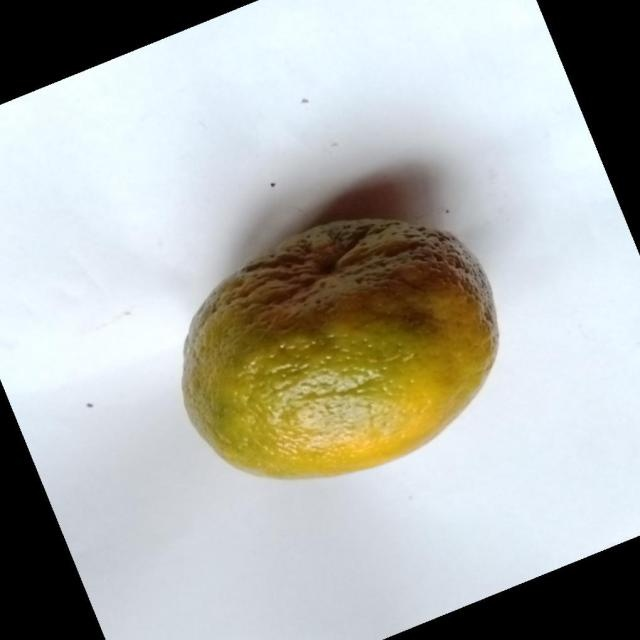agrume: (180, 215, 500, 480)
